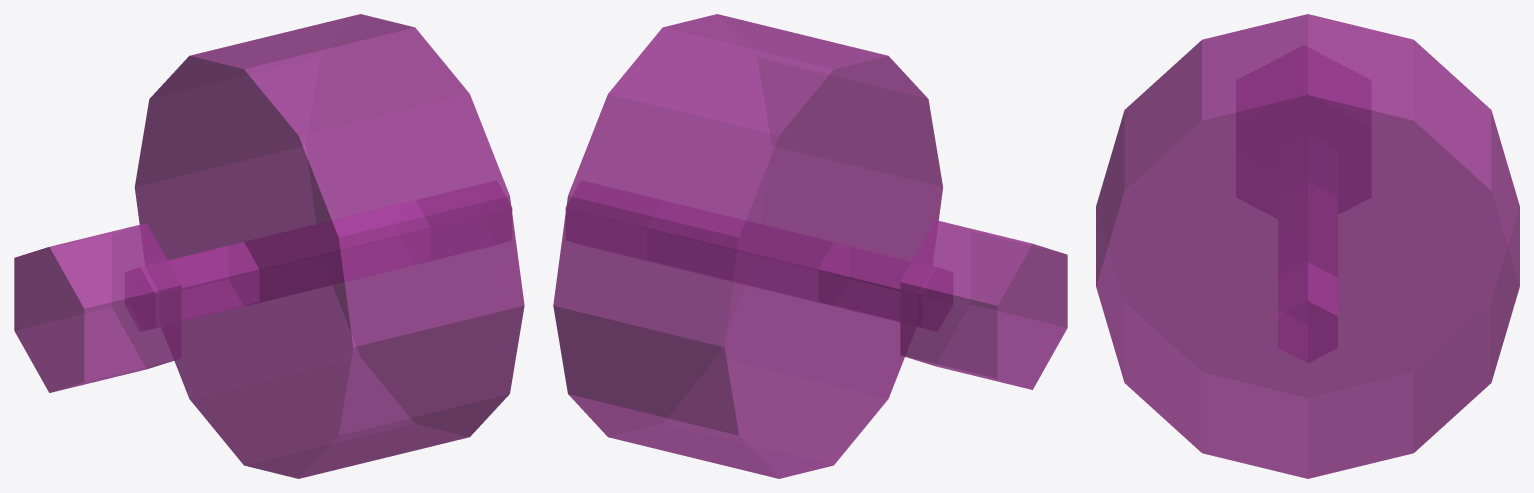
File: SM_Prop_Drive_Wheel_01_Wheel_01_Collision.fbx
3 renders of one model, left to right at view 1: azimuth 30°, elevation 25°; view 2: azimuth 150°, elevation 25°; view 3: azimuth 270°, elevation 25°, orthographic. The views are drawn at different scales.
Parts seen in each view (by area): view 1: SM_Prop_Drive_Wheel_01_Wheel_01_Collision; view 2: SM_Prop_Drive_Wheel_01_Wheel_01_Collision; view 3: SM_Prop_Drive_Wheel_01_Wheel_01_Collision.
Boxes of the visible parts, x1=… form: SM_Prop_Drive_Wheel_01_Wheel_01_Collision: x1=14, y1=14, x2=524, y2=478; SM_Prop_Drive_Wheel_01_Wheel_01_Collision: x1=553, y1=14, x2=1067, y2=478; SM_Prop_Drive_Wheel_01_Wheel_01_Collision: x1=1096, y1=14, x2=1519, y2=478.
Bounding box in the file's own units: 426 × 358 × 358.
